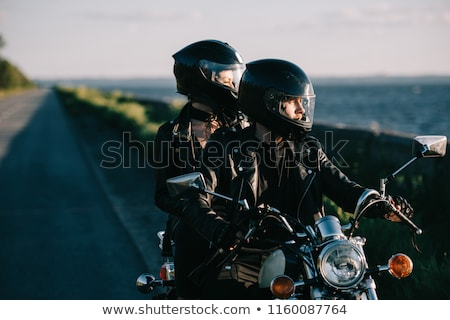with_helmet: (236, 55, 320, 144), (170, 35, 248, 112)
